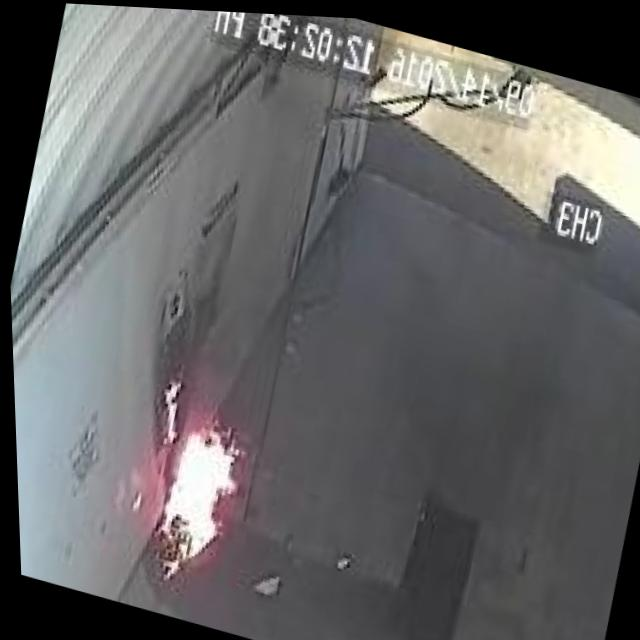fire: (108, 360, 268, 596)
